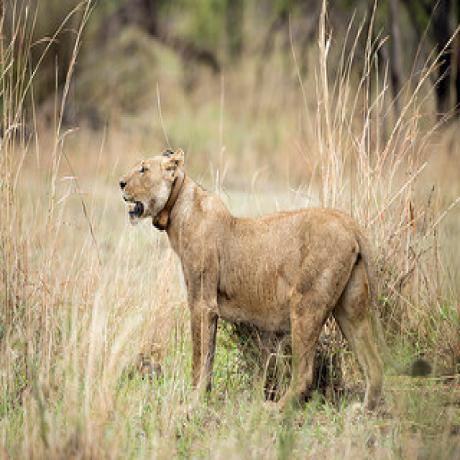Lion: (112, 145, 390, 411)
